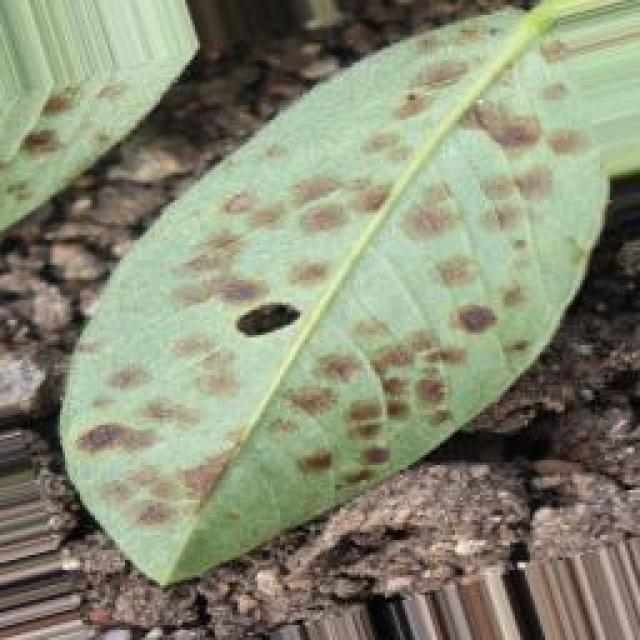Whitefly: (27, 0, 626, 558)
